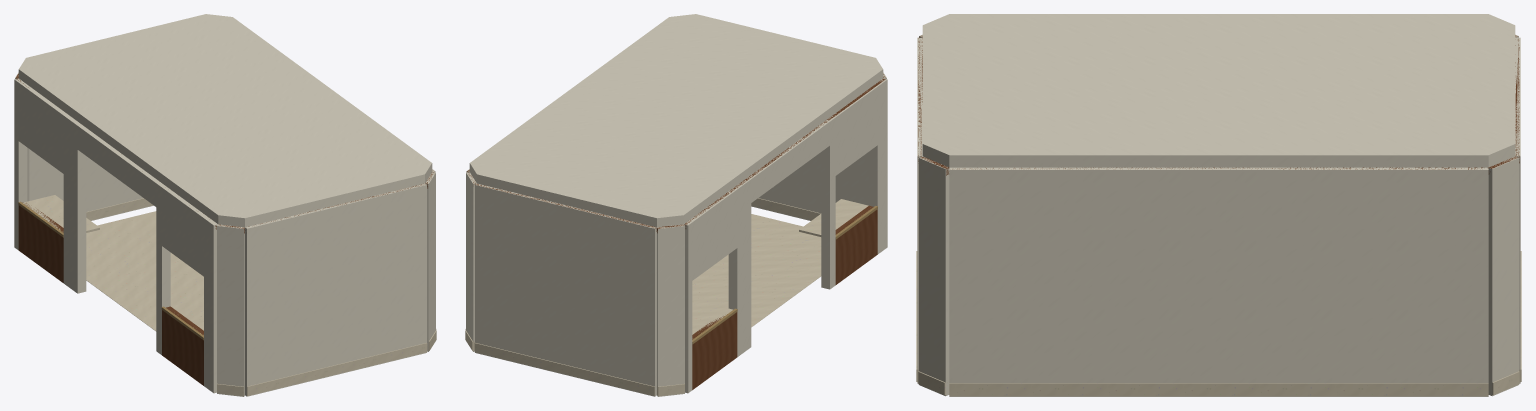
File: AST-DIN-003.glb
The picture shows the model from 3 angles, left to right: view 1: azimuth 30°, elevation 25°; view 2: azimuth 150°, elevation 25°; view 3: azimuth 270°, elevation 25°; orthographic projection. The views are drawn at different scales.
Visible parts, largest first — view 1: DIN_ServiceCeiling, DIN_ServiceShell_5, DIN_VisualFloor_ServiceInset, DIN_ServiceShell_6, DIN_ServiceWestPier_2.1, DIN_ServiceShell_1, DIN_ServiceWindowHeader_0.5, DIN_ServiceWindowHeader_5.6, DIN_DoorHeader, DIN_ServiceWindowBase_0.5, DIN_ServiceWestPier_7.1, DIN_ServiceWindowBase_5.6 (+7 smaller); view 2: DIN_ServiceCeiling, DIN_ServiceShell_1, DIN_VisualFloor_ServiceInset, DIN_ServiceShell_0, DIN_ServiceShell_5, DIN_ServiceWestPier_2.1, DIN_ServiceWindowHeader_0.5, DIN_ServiceWindowHeader_5.6, DIN_ServiceWestPier_7.1, DIN_ServiceWestPier_5.4, DIN_ServiceWindowBase_0.5, DIN_DoorHeader (+8 smaller); view 3: DIN_ServiceShell_3, DIN_ServiceCeiling, DIN_ServiceSkirting_3, DIN_ServiceShell_4, DIN_ServiceShell_2, DIN_ServiceShell_5, DIN_ServiceShell_1.
Boxes of the visible parts, bbox=[...] form: DIN_ServiceCeiling: bbox=[18, 14, 432, 227]; DIN_ServiceShell_5: bbox=[245, 183, 426, 396]; DIN_VisualFloor_ServiceInset: bbox=[86, 211, 203, 331]; DIN_ServiceShell_6: bbox=[217, 224, 244, 396]; DIN_ServiceWestPier_2.1: bbox=[63, 114, 86, 293]; DIN_ServiceShell_1: bbox=[29, 149, 153, 220]; DIN_ServiceWindowHeader_0.5: bbox=[18, 81, 67, 173]; DIN_ServiceWindowHeader_5.6: bbox=[162, 186, 207, 276]; DIN_DoorHeader: bbox=[77, 124, 160, 206]; DIN_ServiceWindowBase_0.5: bbox=[18, 202, 63, 282]; DIN_ServiceWestPier_7.1: bbox=[204, 217, 217, 393]; DIN_ServiceWindowBase_5.6: bbox=[162, 306, 203, 385]; DIN_ServiceCeiling: bbox=[469, 14, 883, 227]; DIN_ServiceShell_1: bbox=[475, 183, 656, 396]; DIN_VisualFloor_ServiceInset: bbox=[692, 214, 821, 327]; DIN_ServiceShell_0: bbox=[657, 224, 684, 396]; DIN_ServiceShell_5: bbox=[751, 152, 868, 220]; DIN_ServiceWestPier_2.1: bbox=[728, 178, 751, 356]; DIN_ServiceWindowHeader_0.5: bbox=[689, 188, 737, 280]; DIN_ServiceWindowHeader_5.6: bbox=[832, 86, 877, 175]; DIN_ServiceWestPier_7.1: bbox=[869, 78, 887, 254]; DIN_ServiceWestPier_5.4: bbox=[821, 117, 835, 289]; DIN_ServiceWindowBase_0.5: bbox=[692, 312, 737, 389]; DIN_DoorHeader: bbox=[747, 121, 829, 202]; DIN_ServiceShell_3: bbox=[949, 167, 1488, 396]; DIN_ServiceCeiling: bbox=[922, 14, 1515, 167]; DIN_ServiceSkirting_3: bbox=[949, 383, 1488, 395]; DIN_ServiceShell_4: bbox=[919, 156, 949, 396]; DIN_ServiceShell_2: bbox=[1488, 156, 1518, 396]; DIN_ServiceShell_5: bbox=[917, 37, 922, 383]; DIN_ServiceShell_1: bbox=[1515, 37, 1520, 383].
Bounding box in the file's own units: 4.58 × 3.48 × 7.97.
Materials: 5 (4 with a texture image).
